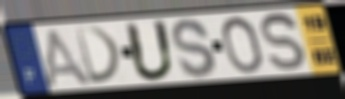A: (41, 26, 96, 87)
D: (73, 24, 124, 86)
O: (218, 14, 265, 75)
S: (169, 17, 219, 81), (259, 11, 308, 73)
U: (123, 19, 178, 83)
